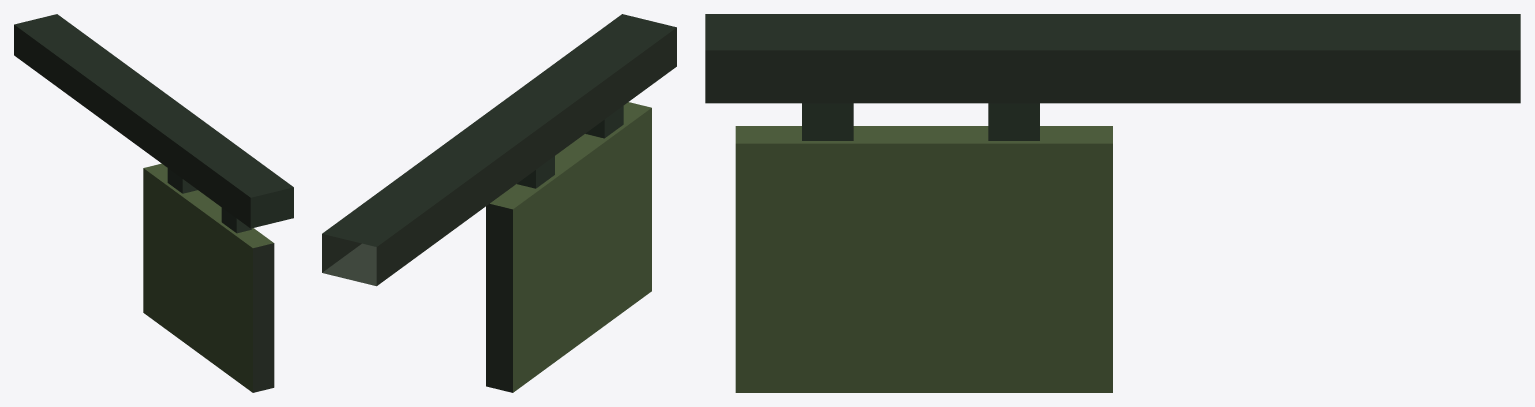
The model's file is SF_Bld_HouseAdd_Sign_Stables_01.glb.
3 renders of one model, left to right at view 1: azimuth 30°, elevation 25°; view 2: azimuth 150°, elevation 25°; view 3: azimuth 270°, elevation 25°, orthographic. The views are drawn at different scales.
Visible parts, largest first — view 1: SF_Bld_HouseAdd_Sign_Stables_01; view 2: SF_Bld_HouseAdd_Sign_Stables_01; view 3: SF_Bld_HouseAdd_Sign_Stables_01.
Part boxes in pixels (left/top/right/bottom): SF_Bld_HouseAdd_Sign_Stables_01: left=14, top=14, right=293, bottom=392; SF_Bld_HouseAdd_Sign_Stables_01: left=322, top=14, right=676, bottom=392; SF_Bld_HouseAdd_Sign_Stables_01: left=705, top=14, right=1520, bottom=392.
Size of the model in its own units: 0.00409 by 0.0185 by 0.0389.
1 material, 1 textured.
